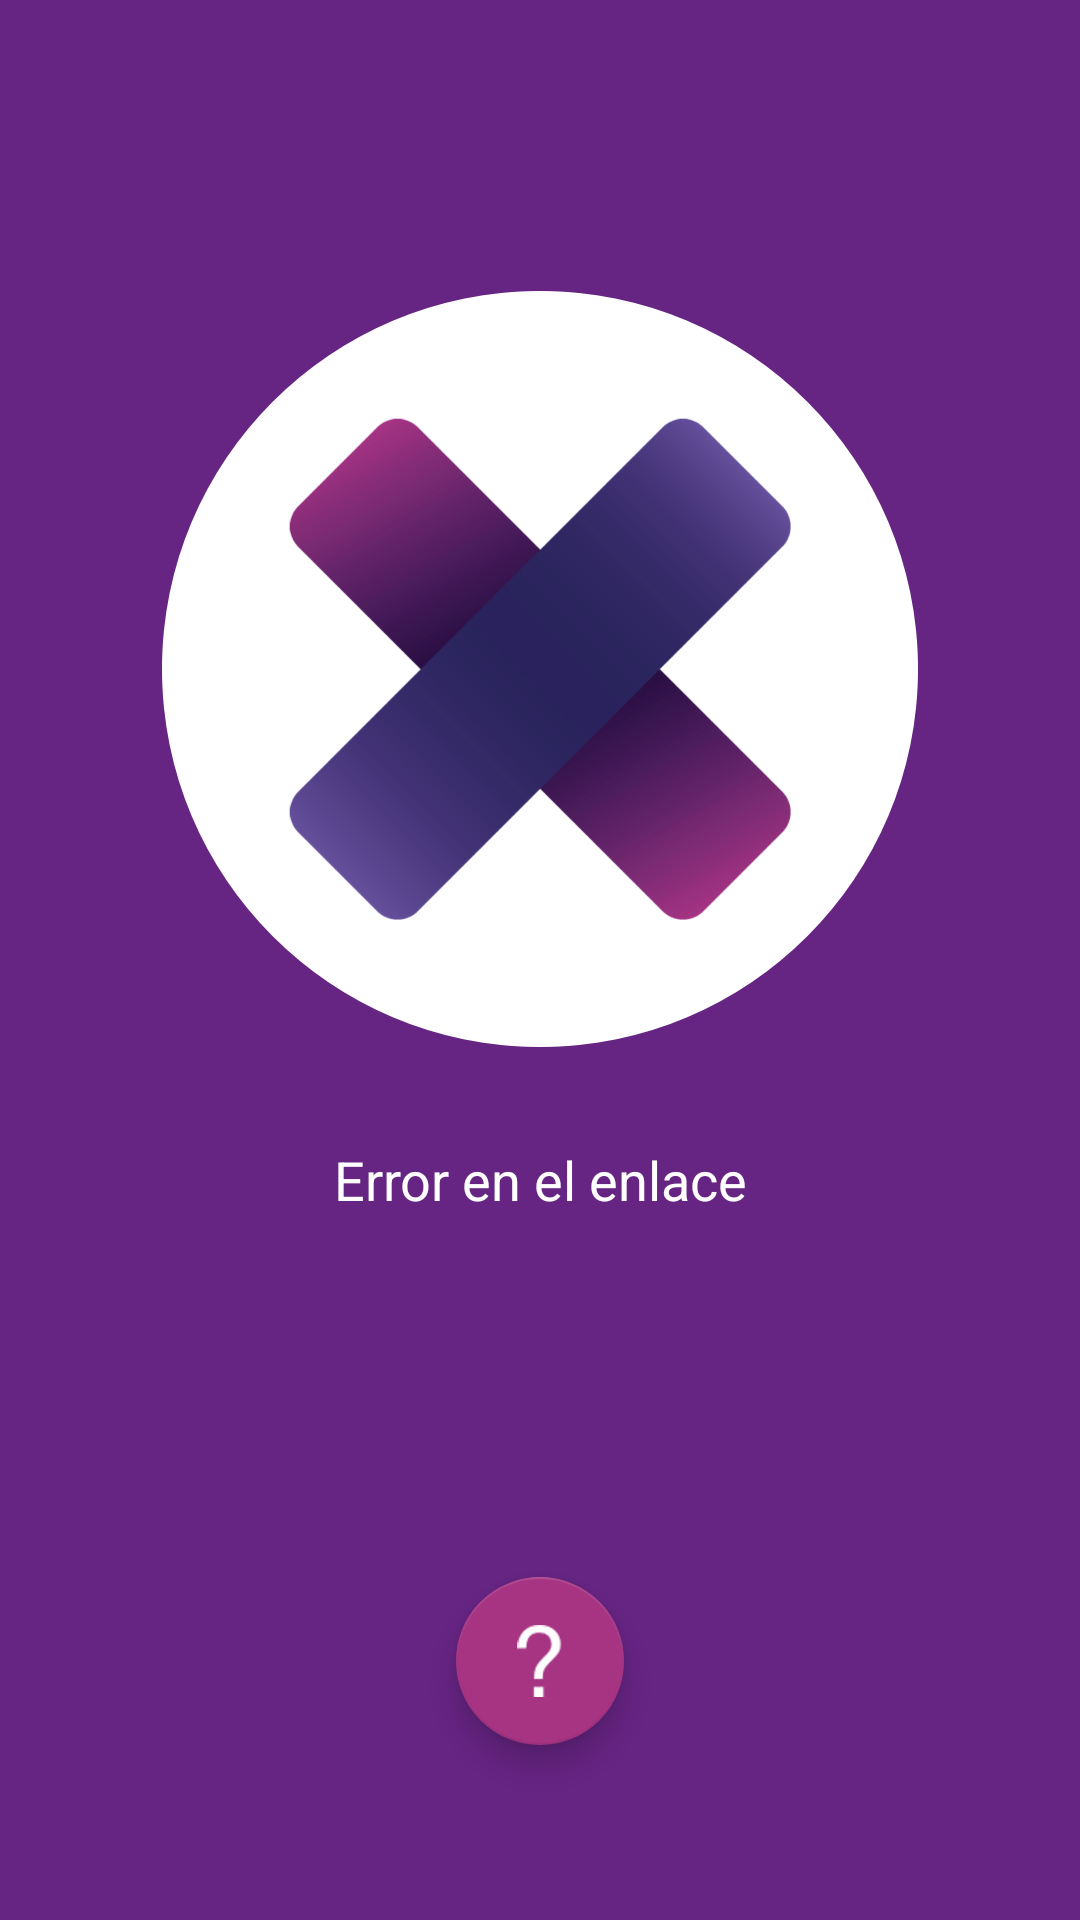

Named icons in this screenshot (1080px×1920px) and their bounding boxes, [x1=x1, y1=y1, x2=x2, y2=y2]:
question mark: [x1=456, y1=1577, x2=624, y2=1745]
